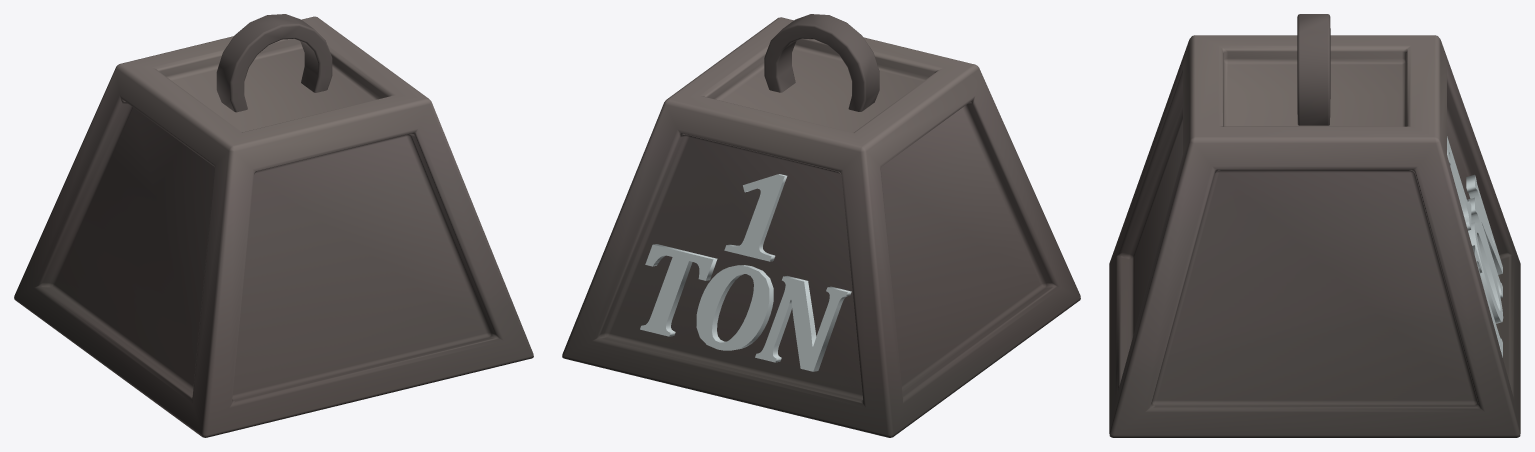
File: Weightsquare.fbx
3 views of the same model, side by side, from view 1: azimuth 30°, elevation 25°; view 2: azimuth 150°, elevation 25°; view 3: azimuth 270°, elevation 25° (orthographic). The views are drawn at different scales.
Parts seen in each view (by area): view 1: Cube.032, Circle.028; view 2: Cube.032, Text, Circle.028; view 3: Cube.032, Circle.028, Text.
Boxes of the visible parts, x1,y1,x2,y2 form: Cube.032: [14, 16, 533, 437]; Circle.028: [216, 14, 332, 112]; Cube.032: [562, 17, 1080, 437]; Text: [640, 174, 851, 371]; Circle.028: [764, 14, 879, 111]; Cube.032: [1109, 35, 1520, 437]; Circle.028: [1297, 14, 1330, 125]; Text: [1447, 136, 1503, 357].
Bounding box in the file's own units: 1.99 × 1.77 × 1.99.
